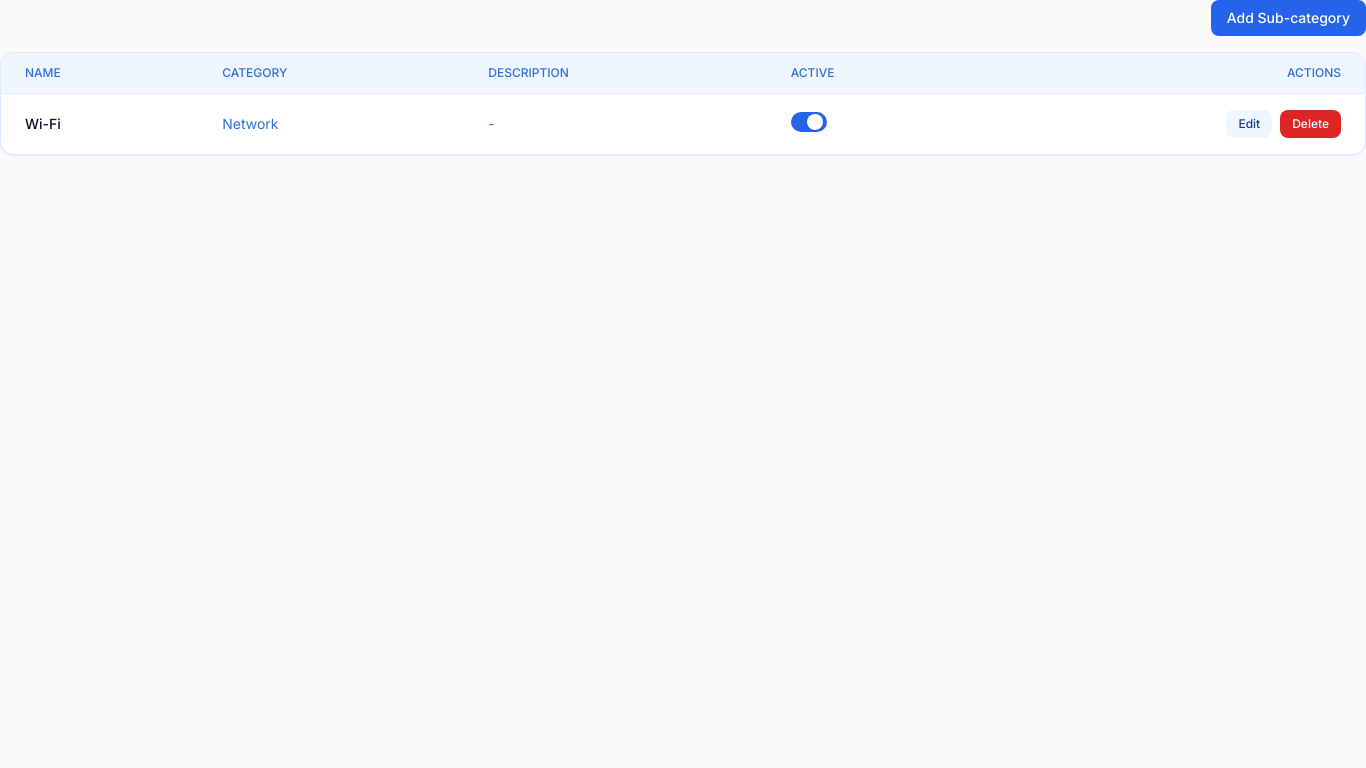
Test case: SubCategoryManager › blocks delete and reports FAQ usage
Click the button "Delete" at coordinates (1311, 124), box [1280,110,1341,138]
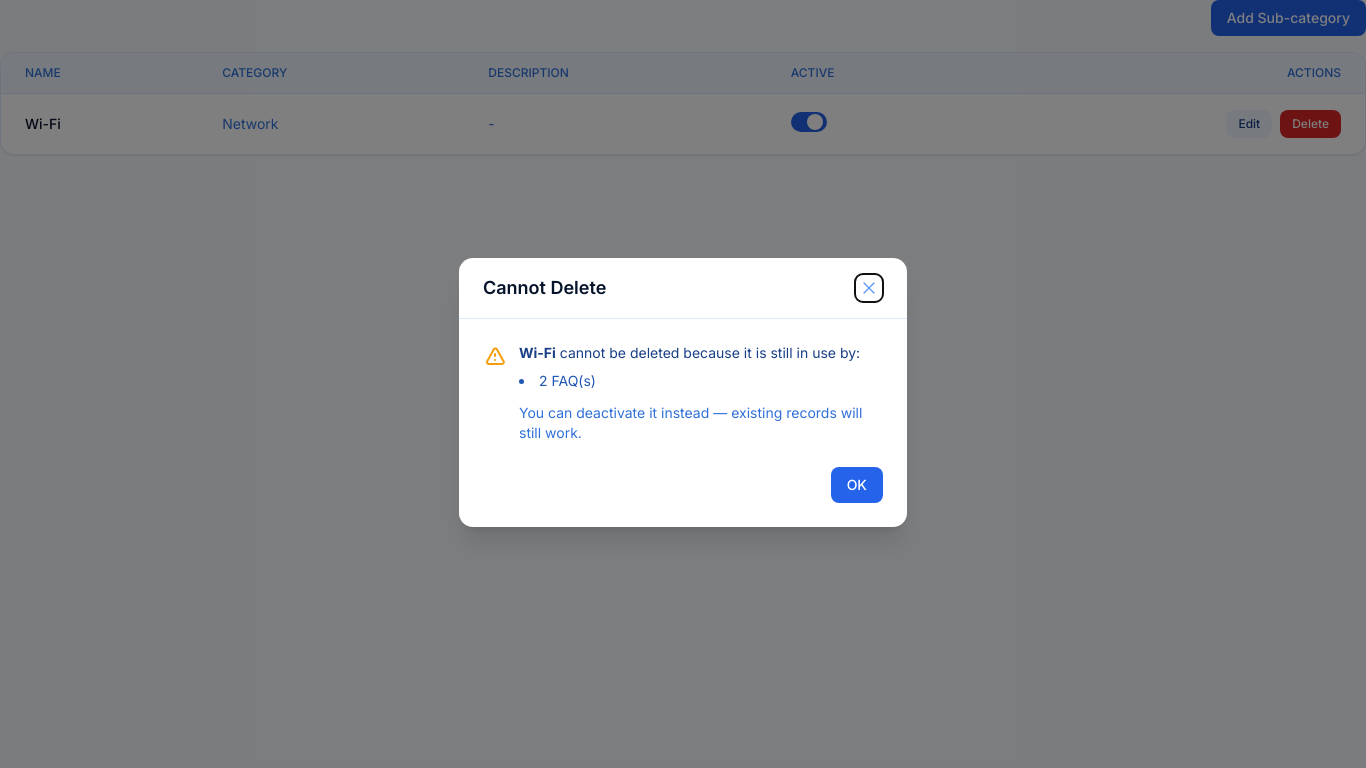
Expected: the list item "2 FAQ(s)" is shown, [539,372,596,388]
